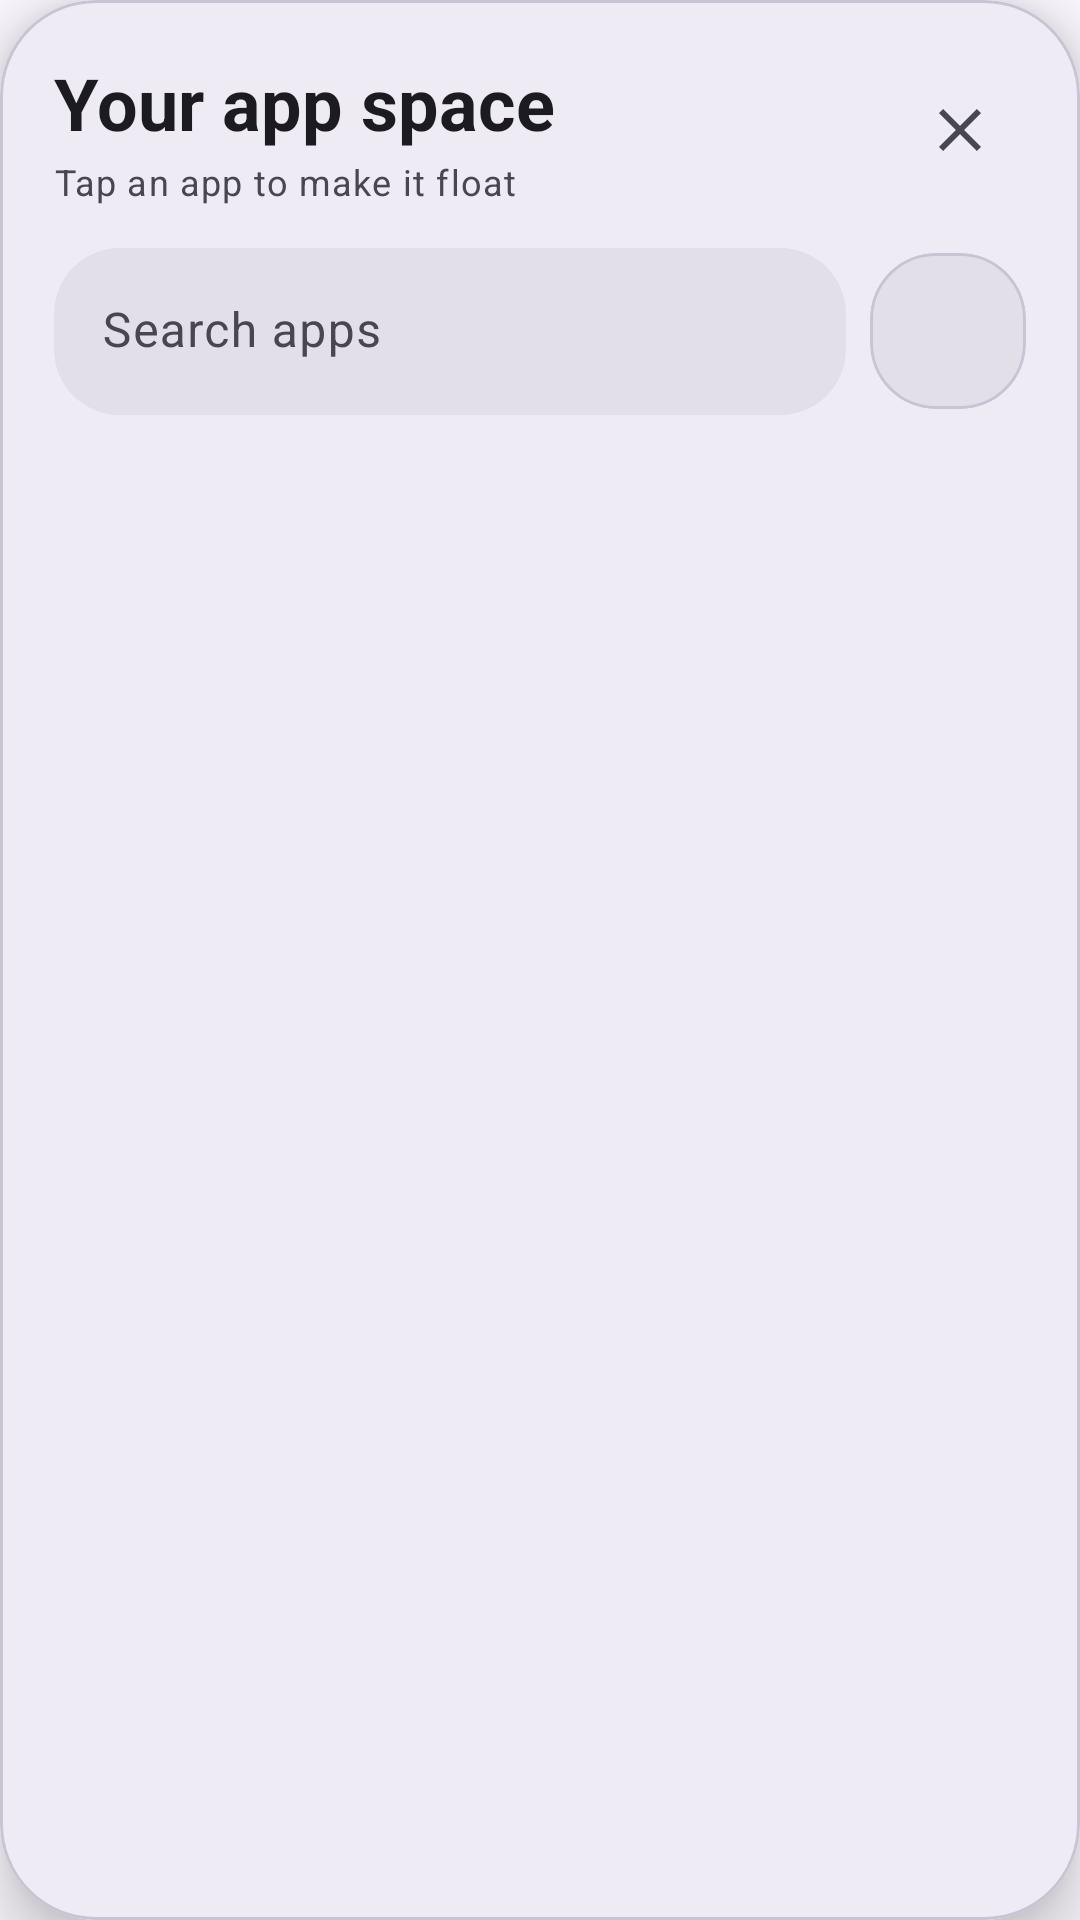

Where to tap for icons on this 1080*1920 app screen, as point (x, y):
Close bubble: point (960, 130)
